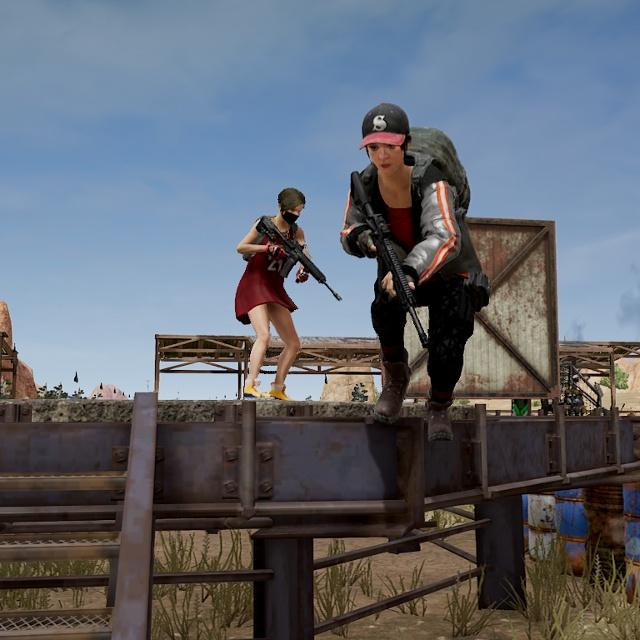head: (357, 100, 415, 177), (275, 186, 308, 226)
people: (337, 98, 490, 407), (232, 184, 317, 402)
